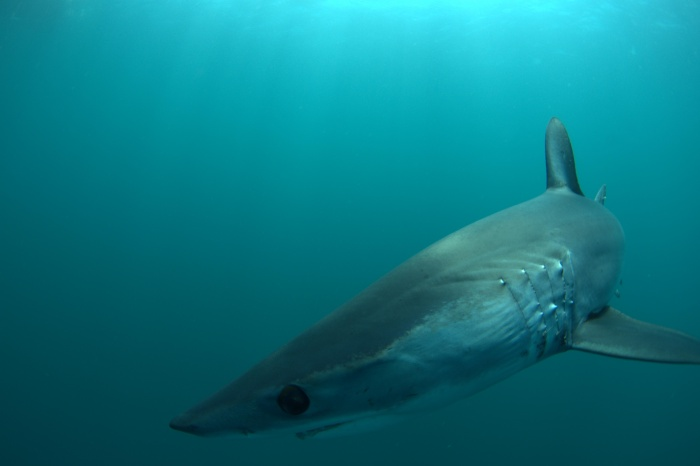Mako: (155, 112, 700, 455)
